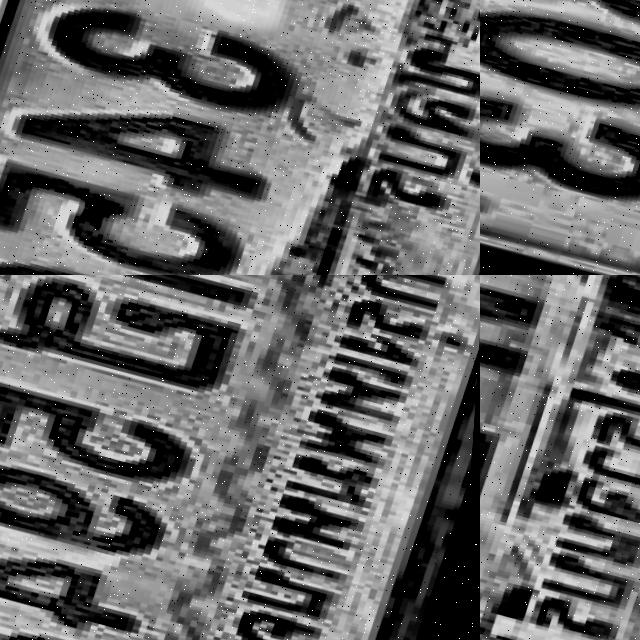license-plate: (0, 275, 480, 640), (0, 0, 480, 275), (480, 275, 640, 640), (480, 0, 640, 275)
